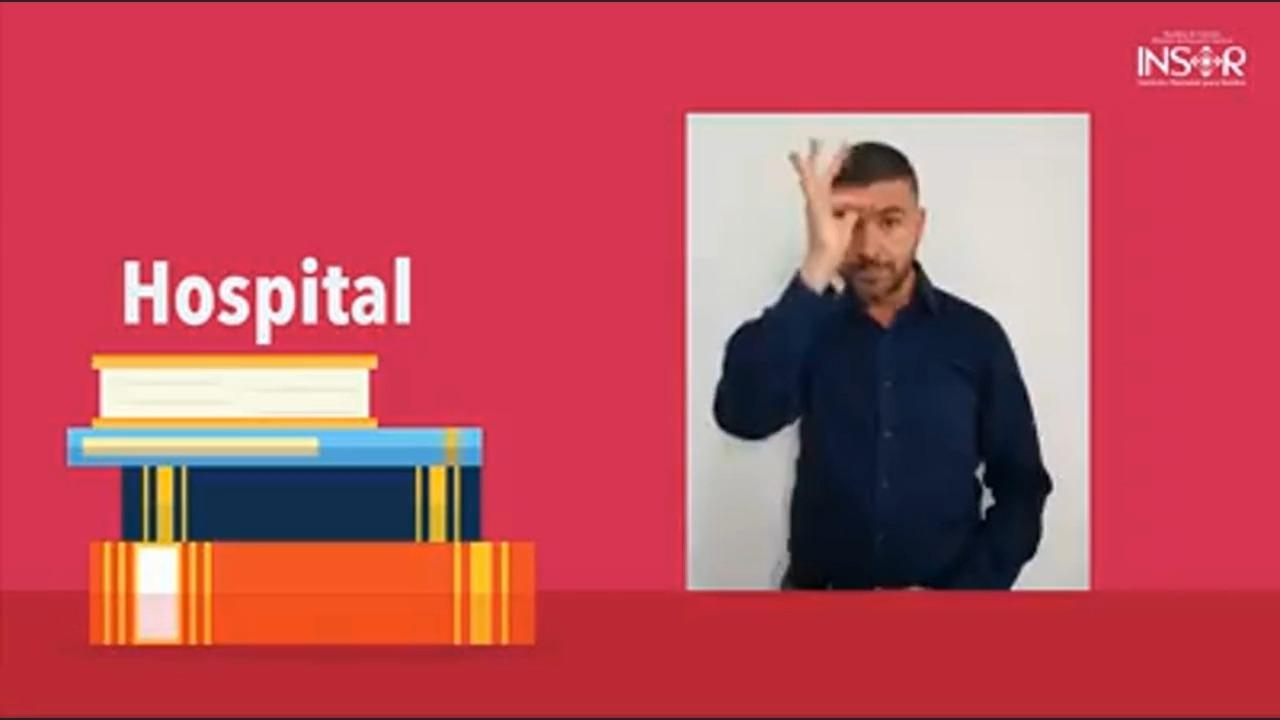Hospital: (700, 130, 1063, 462)
